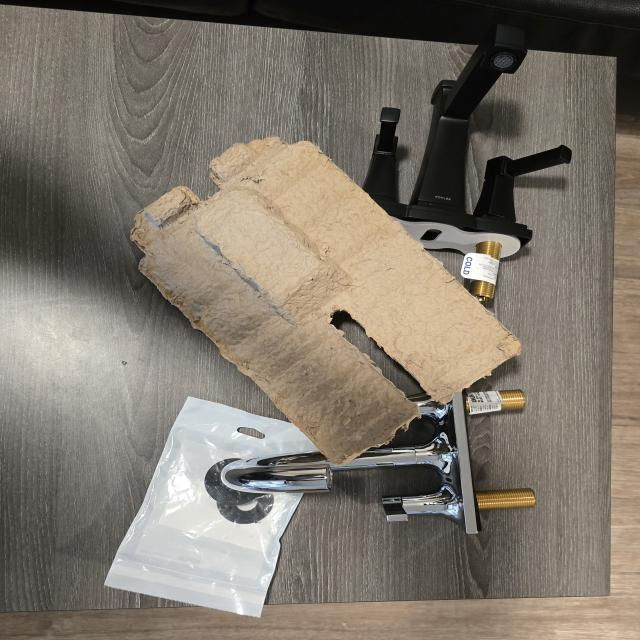10o: (220, 390, 535, 534)
13o: (105, 397, 317, 617)
9o: (364, 25, 571, 300)
